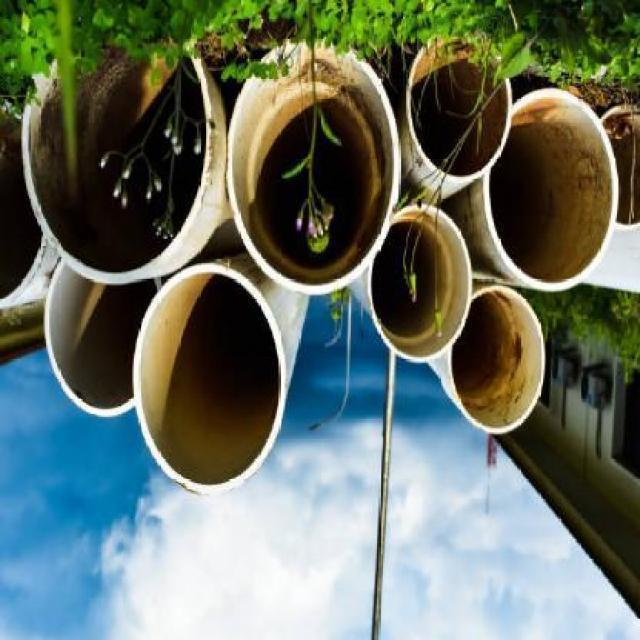pipe: (22, 40, 208, 285), (226, 40, 399, 296), (134, 263, 287, 496), (483, 88, 620, 291), (45, 258, 164, 417), (370, 205, 473, 363), (406, 34, 514, 182), (448, 286, 545, 432)
